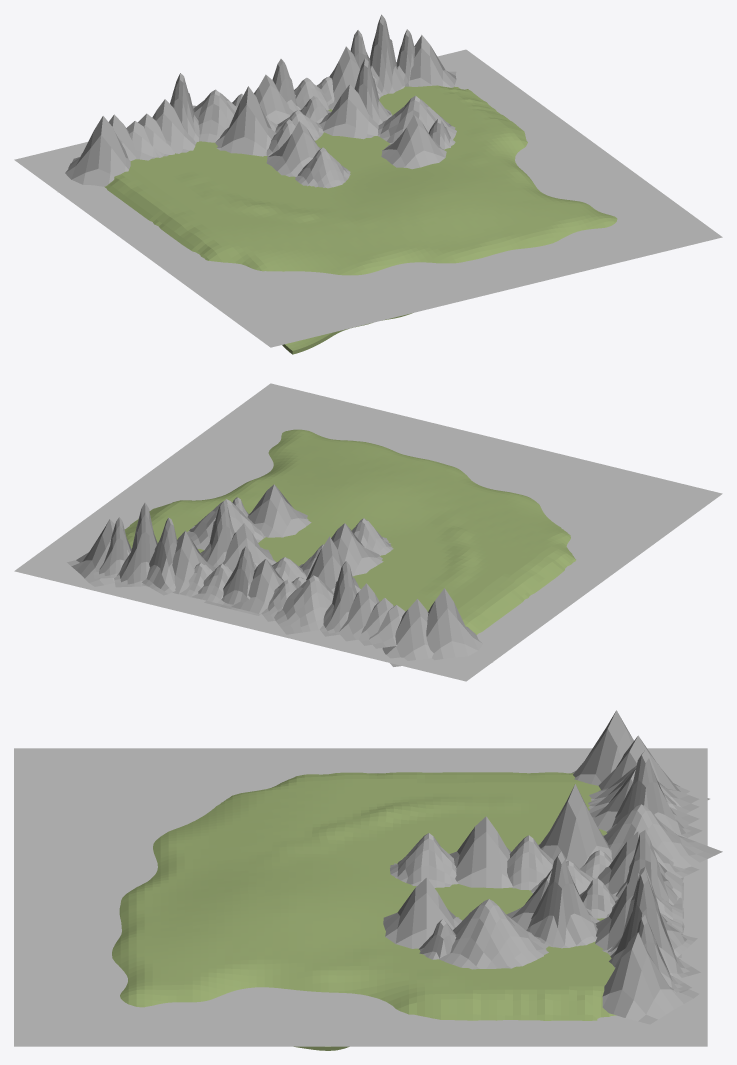
Rendered from Terrain.fbx.
3 renders of one model, top to bottom at view 1: azimuth 30°, elevation 25°; view 2: azimuth 150°, elevation 25°; view 3: azimuth 270°, elevation 25°, orthographic. The views are drawn at different scales.
Parts seen in each view (by area): view 1: pCube1, pPlane31, pPlane32, pPlane29, pPlane27, pPlane24, pPlane14, pPlane21, pPlane8, pPlane18, pPlane22, pPlane26 (+10 smaller); view 2: pPlane31, pCube1, pPlane32, pPlane8, pPlane27, pPlane10, pPlane14, pPlane12, pPlane6, pPlane21, pPlane2, pPlane4 (+15 smaller); view 3: pPlane31, pCube1, pPlane22, pPlane18, pPlane23, pPlane21, pPlane8, pPlane29, pPlane27, pPlane14, pPlane26, pPlane6 (+14 smaller).
Boxes of the visible parts, left/top/right/bottom form: pCube1: left=104, top=85, right=617, bottom=354; pPlane31: left=14, top=49, right=722, bottom=347; pPlane32: left=65, top=116, right=130, bottom=186; pPlane29: left=215, top=86, right=276, bottom=156; pPlane27: left=381, top=115, right=446, bottom=169; pPlane24: left=319, top=84, right=378, bottom=139; pPlane14: left=369, top=14, right=404, bottom=94; pPlane21: left=266, top=121, right=320, bottom=176; pPlane8: left=192, top=89, right=236, bottom=142; pPlane18: left=405, top=35, right=456, bottom=87; pPlane22: left=377, top=95, right=456, bottom=144; pPlane26: left=295, top=147, right=350, bottom=188; pPlane31: left=14, top=383, right=722, bottom=681; pCube1: left=124, top=429, right=575, bottom=634; pPlane32: left=426, top=588, right=492, bottom=662; pPlane8: left=274, top=575, right=333, bottom=634; pPlane27: left=247, top=484, right=311, bottom=537; pPlane10: left=382, top=599, right=433, bottom=666; pPlane14: left=114, top=502, right=157, bottom=587; pPlane12: left=142, top=517, right=177, bottom=595; pPlane6: left=319, top=561, right=357, bottom=636; pPlane21: left=331, top=523, right=383, bottom=576; pPlane2: left=204, top=546, right=260, bottom=615; pPlane4: left=222, top=559, right=284, bottom=614; pPlane31: left=14, top=748, right=707, bottom=1046; pCube1: left=112, top=772, right=616, bottom=1050; pPlane22: left=439, top=899, right=548, bottom=969; pPlane18: left=602, top=932, right=699, bottom=1024; pPlane23: left=526, top=851, right=597, bottom=948; pPlane21: left=449, top=816, right=512, bottom=888; pPlane8: left=603, top=804, right=722, bottom=868; pPlane29: left=538, top=784, right=611, bottom=868; pPlane27: left=383, top=877, right=462, bottom=948; pPlane14: left=609, top=869, right=700, bottom=978; pPlane26: left=390, top=833, right=458, bottom=887; pPlane6: left=603, top=750, right=702, bottom=837.
Bounding box in the file's own units: 132 × 32.13 × 133.
